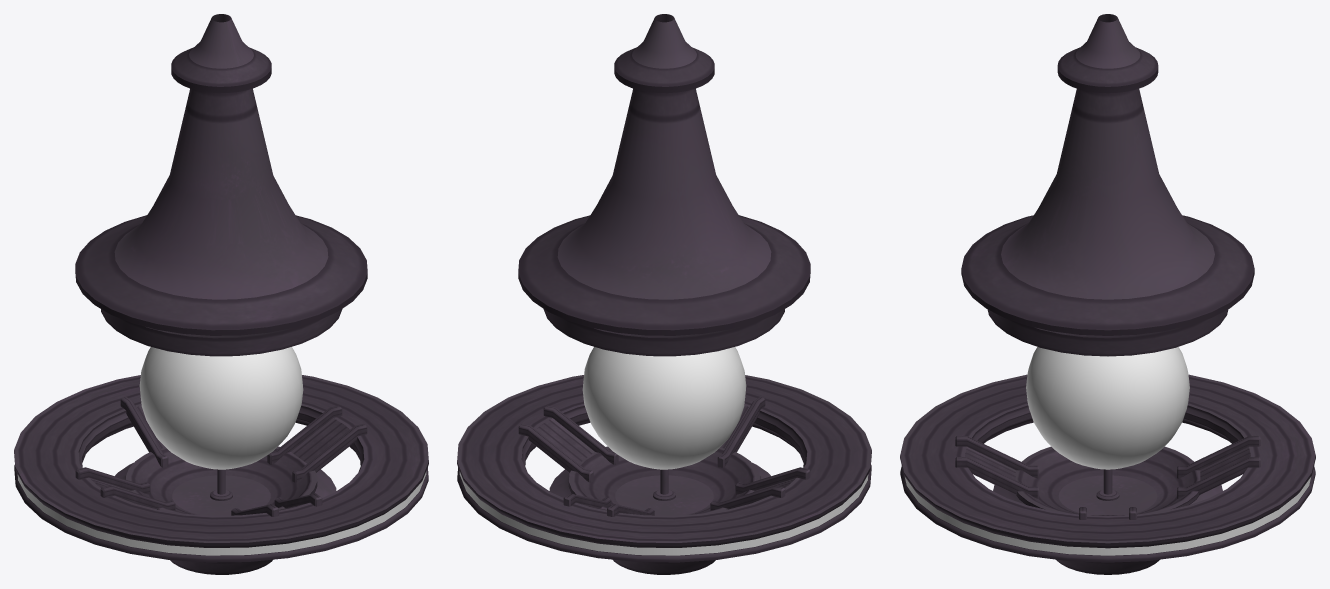
File: Ring Orb.fbx
The picture shows the model from 3 angles, left to right: view 1: azimuth 30°, elevation 25°; view 2: azimuth 150°, elevation 25°; view 3: azimuth 270°, elevation 25°; orthographic projection.
Visible parts, largest first — view 1: Ring; view 2: Ring; view 3: Ring.
Boxes of the visible parts, box(x1,y1,x2,y2) form: Ring: box(14, 14, 428, 574); Ring: box(457, 14, 871, 574); Ring: box(900, 14, 1315, 574).
Bounding box in the file's own units: 4641 × 6570 × 4641.
